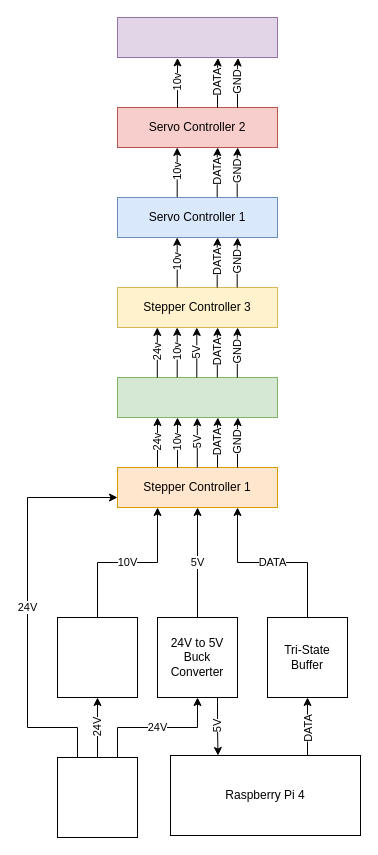
The diagram is 378 pixels wide and 855 high, and some of its shapes have lost their labels. The box of each missing label's shape, as (x1, y1, x2, y2) in pixels:
120vAC to 24V @10 AMP Power Supply: (56, 756, 138, 838)
24V to 10V Buck Converter: (56, 616, 138, 698)
Servo Controller 3: (116, 16, 278, 58)
Stepper Controller 2: (116, 376, 278, 418)
